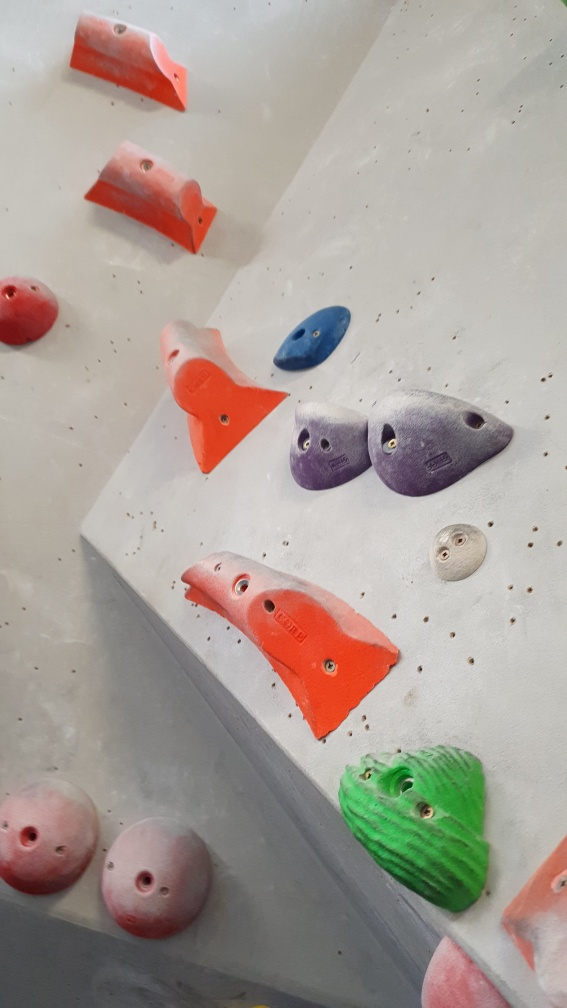Crimp: (264, 305, 356, 371)
Jug: (337, 742, 494, 914), (363, 384, 519, 496), (284, 393, 372, 500)
Pinch: (180, 540, 404, 739), (154, 317, 291, 472), (86, 142, 221, 252), (69, 11, 193, 115)
Sloper: (100, 818, 222, 944), (1, 779, 102, 897), (1, 272, 63, 349)
